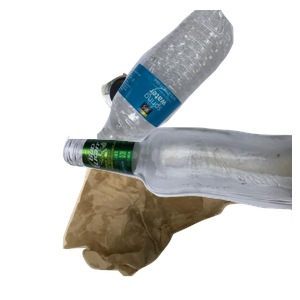glass: (60, 124, 300, 300)
metal: (99, 70, 236, 176)
plastic: (94, 10, 300, 154)
trash: (60, 142, 300, 300)
